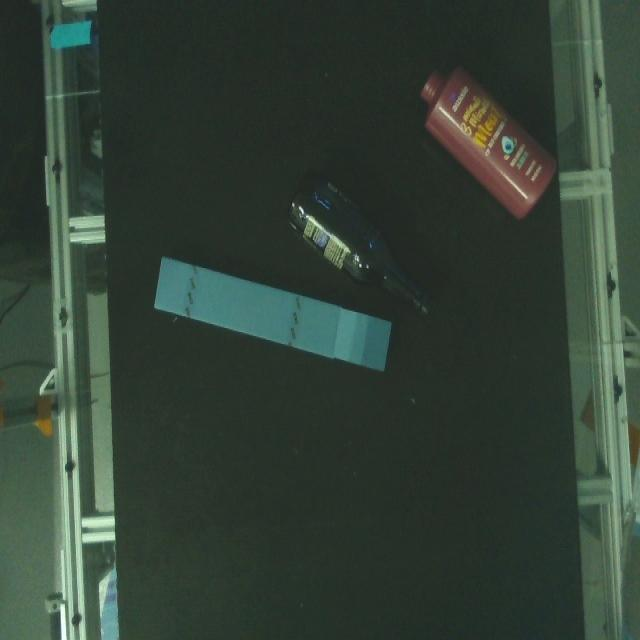non-paper: (281, 160, 441, 325), (415, 57, 566, 228)
paper: (149, 248, 396, 378)
